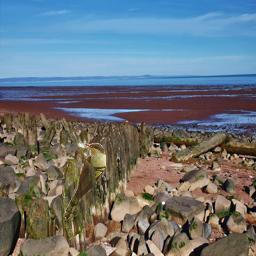Cuckoo: (64, 143, 106, 220)
